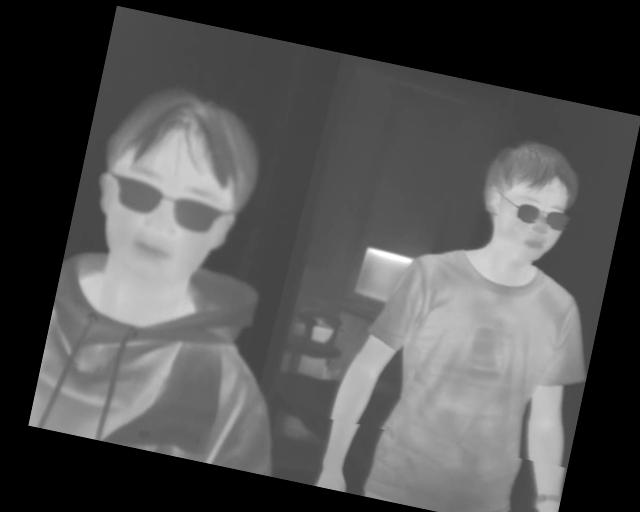face: (79, 76, 272, 299), (471, 133, 585, 268)
